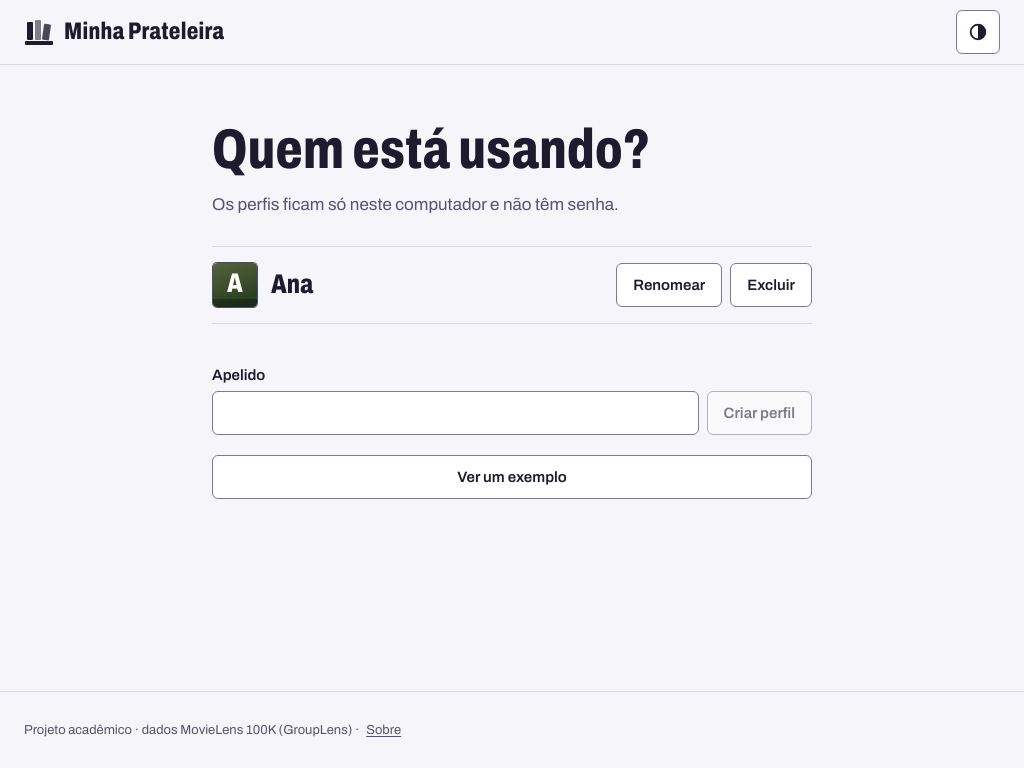
it: o que não muda › escolher um perfil não concluído na tela de perfis leva ao onboarding
The image size is (1024, 768).
Expected: the heading "Quem está usando?" is shown, [212,119,650,180]
Click the button "A Ana". click: (235, 285)
box: [212,257,608,313]
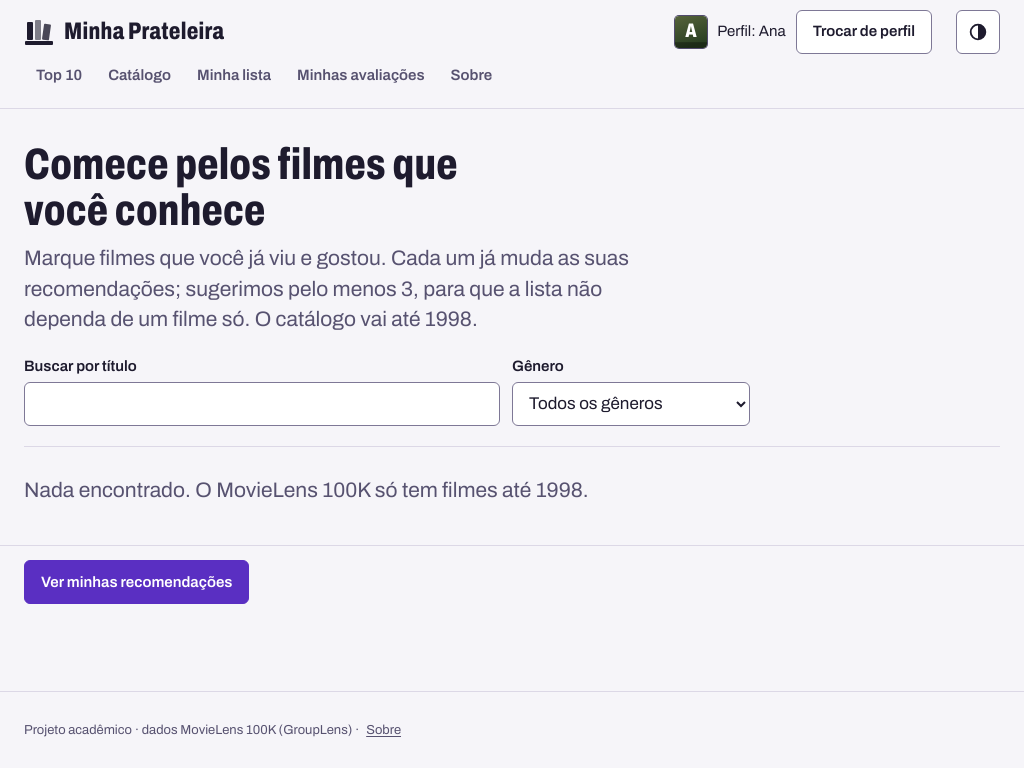
Now the text "Perfil: Ana" is shown, box [717,20,786,44]
